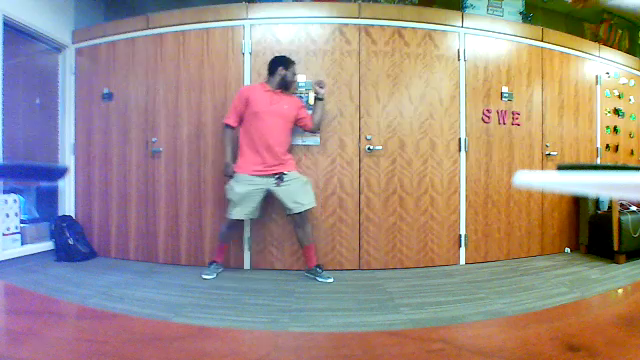up: (311, 67, 333, 99)
